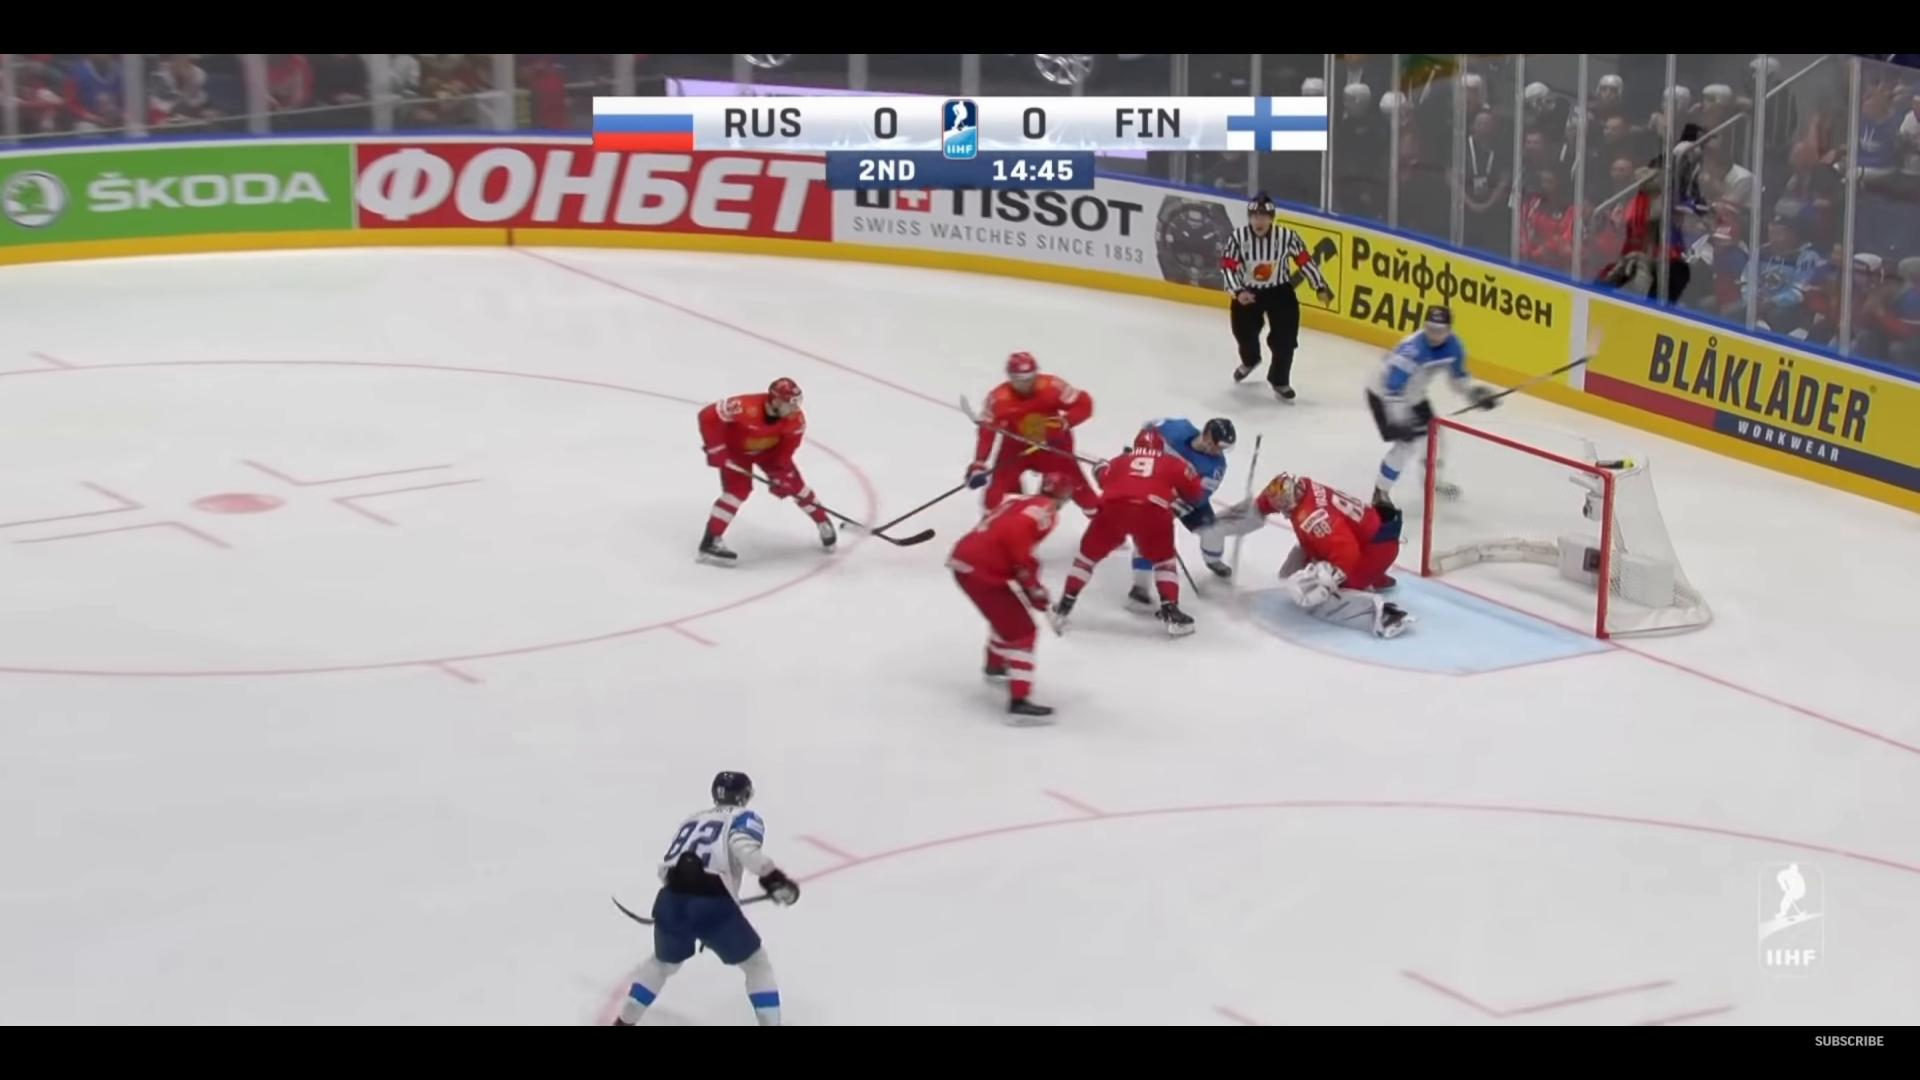puck: (1154, 609, 1162, 620)
